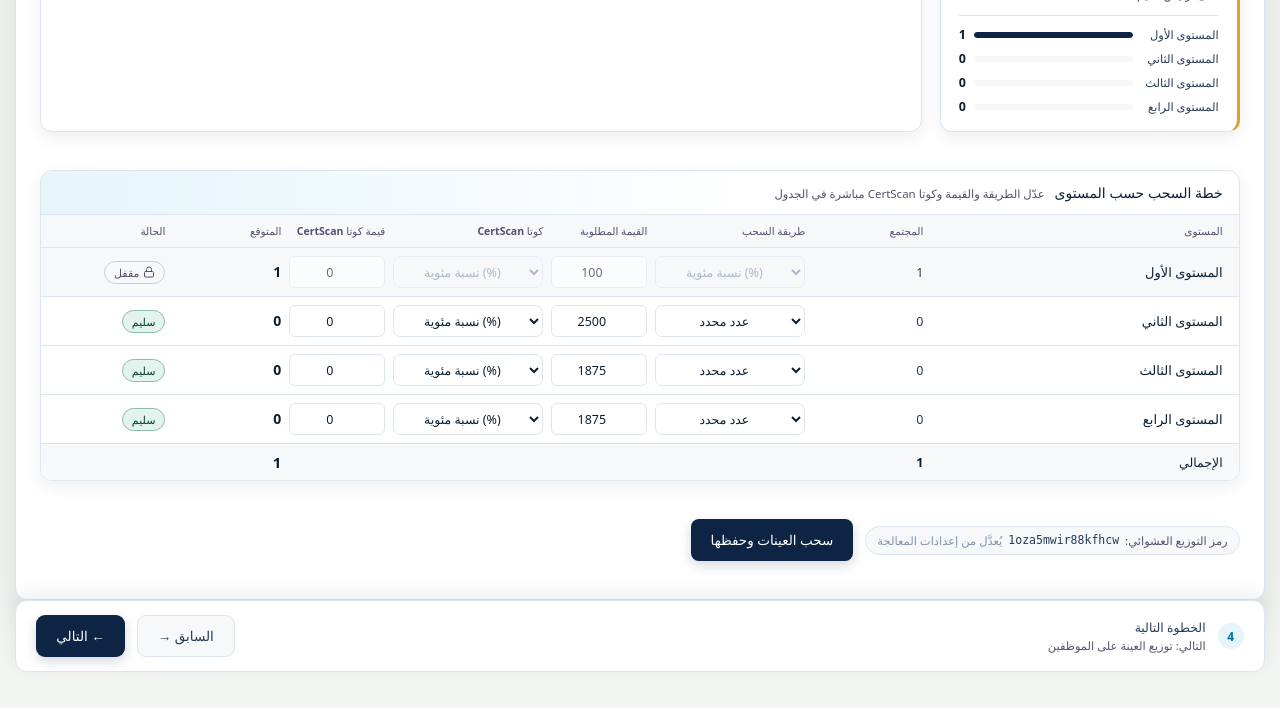
Test: Population wizard — Phase 3 -> Phase 4 transition (Task 5: approval gate removed) › moves from phase 3 to phase 4 even when the sample has not been approved
(page scrolled)
// Phase 3 -- draw a sample (this-session draw, never approved).
Step 1. Click the button "سحب العينات وحفظها" → coordinates (772, 540), box [691,519,853,561]
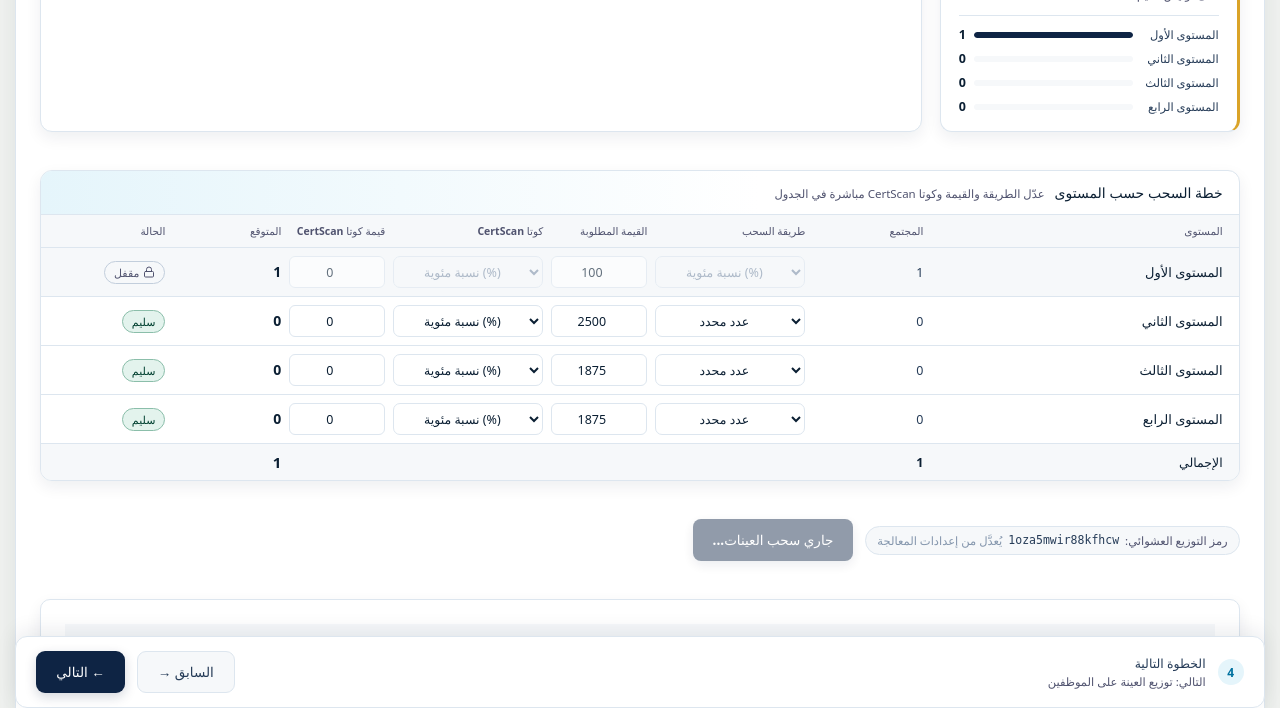
Now the heading "نتيجة السحب" is shown, box [1112,636,1199,658]
// Click "next phase" -- this used to hit the four-eyes approval gate.
Step 2. Click the button "← التالي" → coordinates (81, 672), box [36,651,125,693]
(page scrolled)
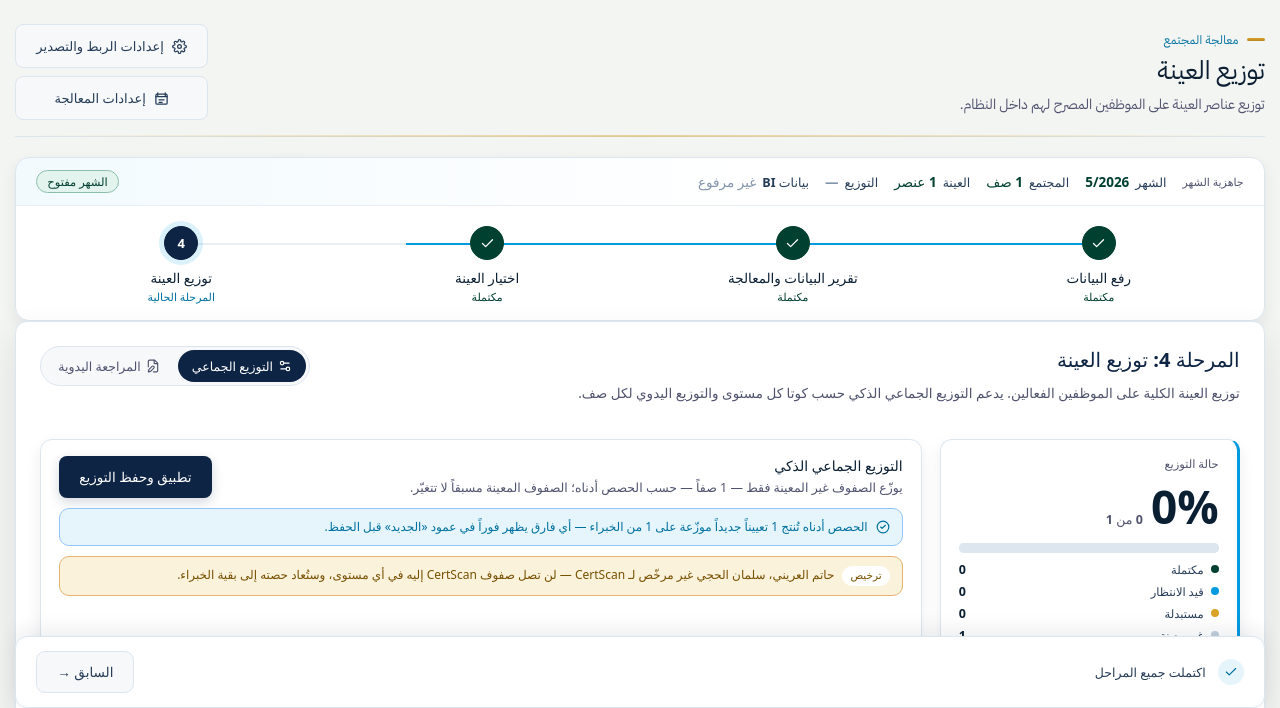
Now the heading "المرحلة 4: توزيع العينة" is shown, box [1057,346,1240,373]
